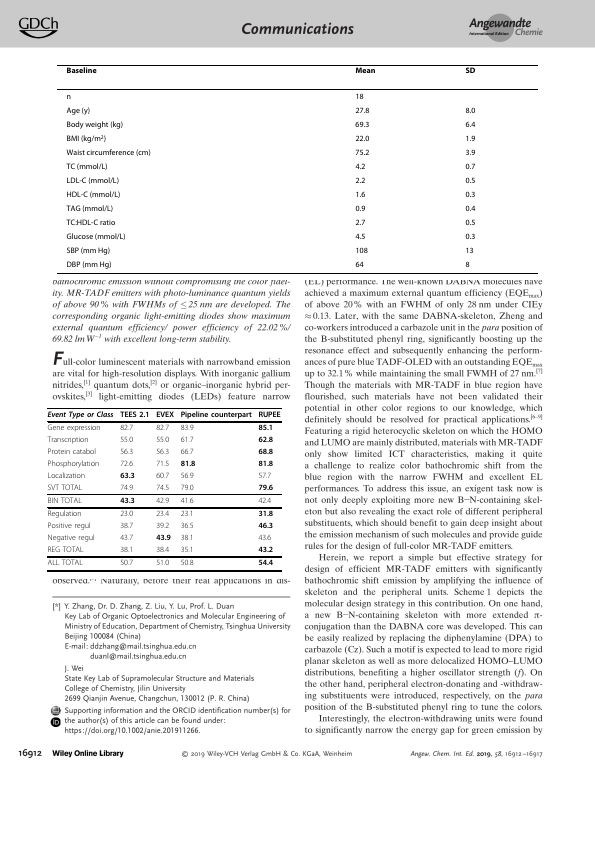borderless: (56, 63, 538, 273), (46, 407, 281, 570)
cell: (66, 148, 152, 158), (180, 411, 253, 420), (66, 232, 127, 242), (47, 411, 114, 420), (66, 120, 124, 130), (66, 190, 121, 200), (47, 424, 101, 434), (66, 176, 120, 186), (47, 460, 100, 470), (47, 448, 97, 458), (66, 218, 116, 228), (47, 534, 96, 544), (66, 204, 114, 214), (66, 260, 112, 270), (47, 522, 92, 532), (66, 246, 111, 256), (47, 436, 89, 446), (66, 162, 108, 172), (66, 134, 107, 144), (47, 472, 86, 482), (47, 546, 84, 556), (47, 497, 83, 507), (47, 510, 83, 520), (47, 560, 84, 569), (47, 484, 83, 493), (119, 411, 150, 420), (66, 66, 98, 74), (66, 106, 91, 116), (257, 411, 282, 420), (155, 411, 175, 420), (354, 66, 376, 74), (257, 510, 274, 520), (257, 522, 274, 532), (155, 534, 172, 544), (257, 546, 274, 556), (354, 106, 370, 116), (354, 120, 370, 130), (354, 134, 370, 144), (354, 148, 370, 158), (257, 424, 274, 433), (257, 436, 274, 445), (257, 448, 274, 457), (257, 460, 274, 469), (119, 472, 136, 481), (257, 484, 274, 493), (119, 497, 136, 506), (257, 560, 274, 569), (119, 424, 134, 434), (155, 424, 170, 434), (119, 436, 134, 446), (155, 436, 170, 446), (119, 448, 134, 458), (155, 448, 170, 458), (119, 460, 134, 470), (155, 460, 170, 470), (155, 472, 170, 482), (257, 472, 272, 482), (155, 497, 170, 507), (257, 497, 272, 507), (119, 510, 134, 520), (155, 510, 170, 520), (119, 522, 134, 532), (155, 522, 170, 532), (119, 534, 134, 544), (257, 534, 272, 544), (119, 546, 134, 556), (155, 546, 170, 556), (354, 246, 369, 256), (180, 460, 196, 469), (180, 424, 194, 434), (180, 436, 194, 446), (180, 448, 194, 458), (180, 472, 194, 482), (180, 497, 194, 507), (180, 510, 194, 520), (180, 522, 194, 532), (180, 534, 194, 544), (180, 546, 194, 556), (119, 484, 134, 493), (155, 484, 170, 493), (119, 560, 134, 569), (155, 560, 170, 569), (180, 484, 194, 493), (180, 560, 194, 569), (464, 106, 476, 116), (464, 120, 476, 130), (464, 134, 476, 144), (464, 148, 476, 158), (354, 162, 366, 172), (464, 162, 476, 172), (354, 176, 366, 186), (464, 176, 476, 186), (354, 190, 366, 200), (464, 190, 476, 200), (354, 204, 366, 214), (464, 204, 476, 214), (354, 218, 366, 228), (464, 218, 476, 228), (354, 232, 366, 242), (354, 92, 365, 102), (465, 232, 476, 242), (464, 246, 475, 256), (354, 260, 365, 270), (464, 66, 476, 74), (464, 260, 471, 270), (66, 92, 72, 102)
